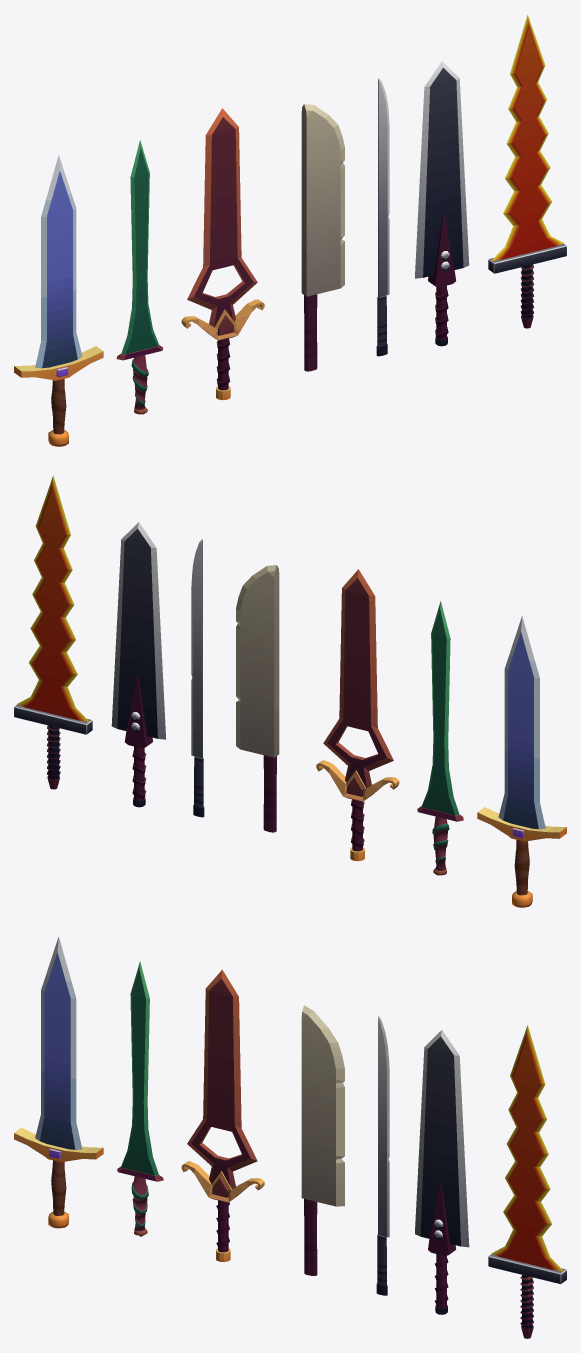
The model's file is Swords.fbx.
3 views of the same model, one above another, from view 1: azimuth 30°, elevation 25°; view 2: azimuth 150°, elevation 25°; view 3: azimuth 330°, elevation 25° (orthographic).
Visible parts, largest first — view 1: Sword 6, Sword 7, Sword 3, Sword 1, Sword 4, Sword 2, Sword 5; view 2: Sword 6, Sword 7, Sword 3, Sword 1, Sword 4, Sword 2, Sword 5; view 3: Sword 6, Sword 7, Sword 3, Sword 1, Sword 4, Sword 2, Sword 5.
Boxes of the visible parts, box(x1,y1,x2,y2) form: Sword 6: box(415, 61, 469, 346); Sword 7: box(488, 15, 566, 328); Sword 3: box(181, 108, 264, 400); Sword 1: box(14, 155, 103, 446); Sword 4: box(301, 104, 344, 371); Sword 2: box(116, 140, 162, 414); Sword 5: box(376, 78, 389, 356); Sword 6: box(111, 522, 165, 807); Sword 7: box(14, 476, 92, 789); Sword 3: box(316, 569, 399, 861); Sword 1: box(477, 616, 566, 907); Sword 4: box(236, 565, 279, 832); Sword 2: box(417, 601, 463, 875); Sword 5: box(191, 539, 204, 817); Sword 6: box(415, 1030, 469, 1314); Sword 7: box(488, 1025, 566, 1338); Sword 3: box(181, 969, 264, 1261); Sword 1: box(14, 936, 103, 1228); Sword 4: box(301, 1005, 344, 1275); Sword 2: box(117, 961, 163, 1236); Sword 5: box(376, 1016, 389, 1295).
Bounding box in the file's own units: 660 × 365 × 21.01.
1 material, 1 textured.
